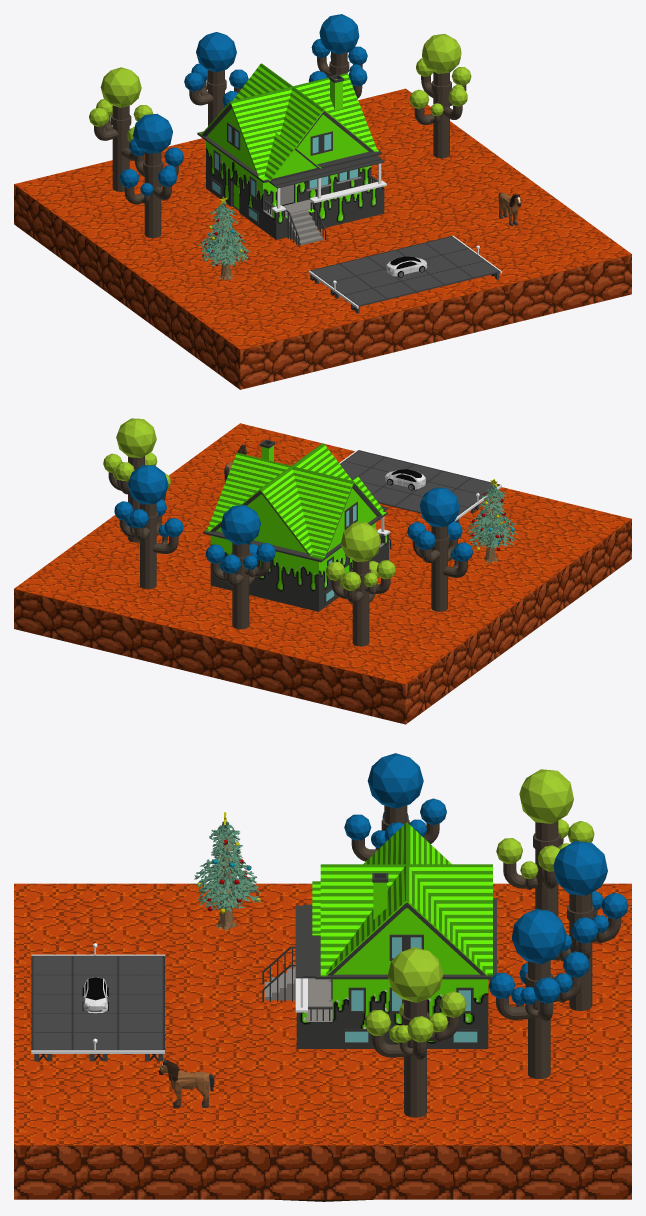
3 renders of one model, top to bottom at view 1: azimuth 30°, elevation 25°; view 2: azimuth 150°, elevation 25°; view 3: azimuth 270°, elevation 25°, orthographic. The views are drawn at different scales.
Visible parts, largest first — view 1: Cube.001, Cube.754, OBJRANDOM_CHRISTMAS_TREE, VEHICLES_TESLA, ANIMAL_CABALLO; view 2: Cube.001, Cube.754, OBJRANDOM_CHRISTMAS_TREE, VEHICLES_TESLA; view 3: Cube.001, Cube.754, OBJRANDOM_CHRISTMAS_TREE, ANIMAL_CABALLO, VEHICLES_TESLA.
Boxes of the visible parts, x1,y1,x2,y2 form: Cube.001: (14,14,631,389); Cube.754: (197,63,386,246); OBJRANDOM_CHRISTMAS_TREE: (198,196,250,280); VEHICLES_TESLA: (386,256,427,277); ANIMAL_CABALLO: (498,192,521,226); Cube.001: (14,418,631,724); Cube.754: (203,439,391,611); OBJRANDOM_CHRISTMAS_TREE: (466,479,516,563); VEHICLES_TESLA: (385,469,425,490); Cube.001: (14,753,631,1199); Cube.754: (262,823,496,1048); OBJRANDOM_CHRISTMAS_TREE: (194,812,261,930); ANIMAL_CABALLO: (159,1059,214,1107); VEHICLES_TESLA: (82,977,108,1013).
Size of the model in its own units: 4000 by 1730 by 4000.
37 materials, 5 textured.
